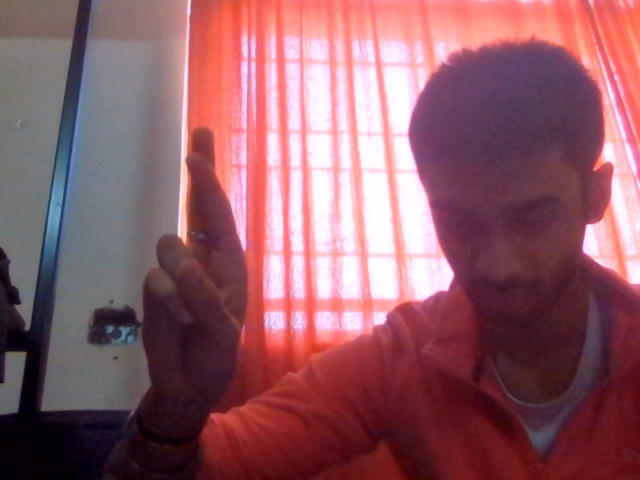R: (111, 122, 291, 476)
